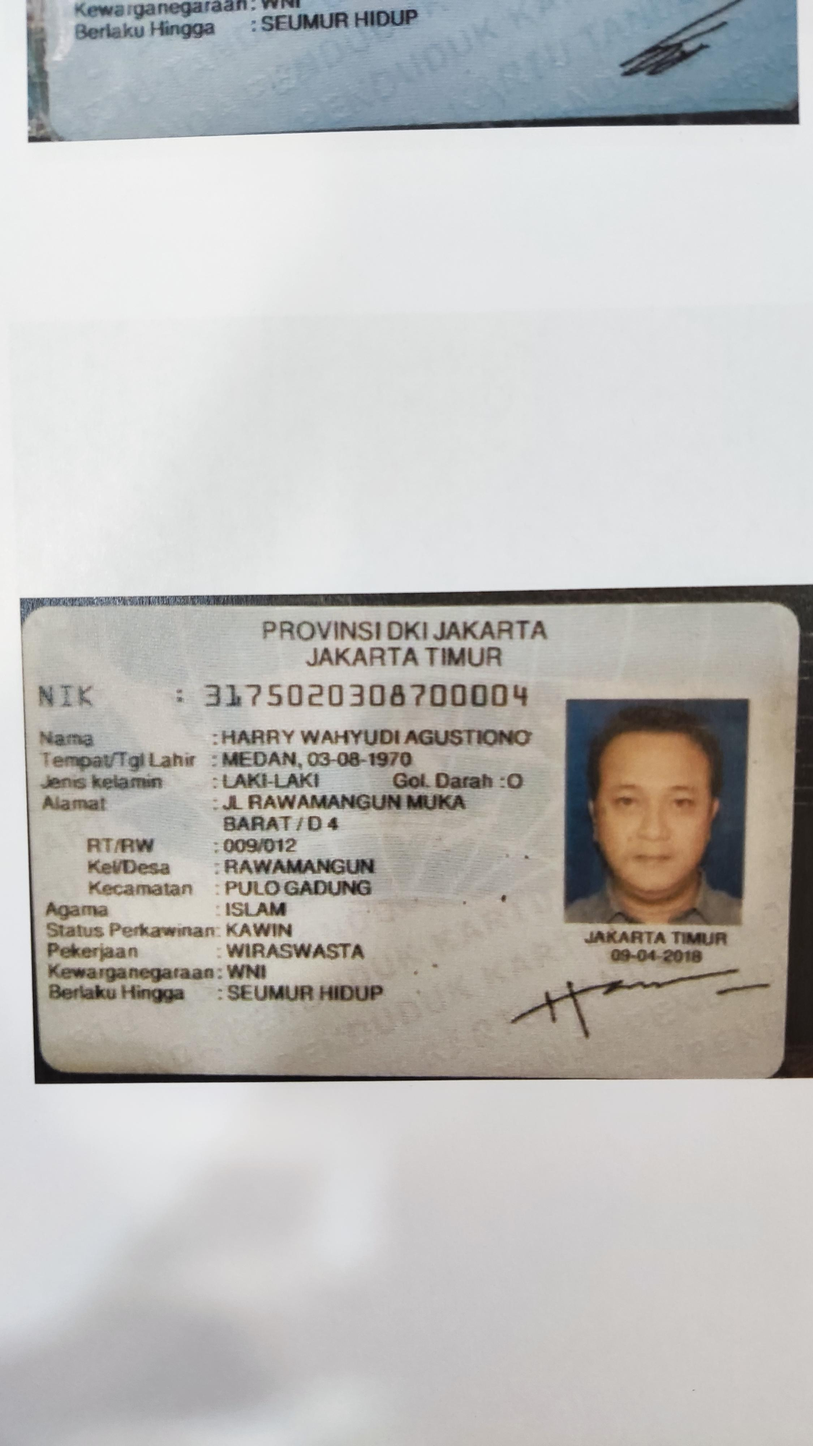ID-card: (28, 604, 792, 1069)
